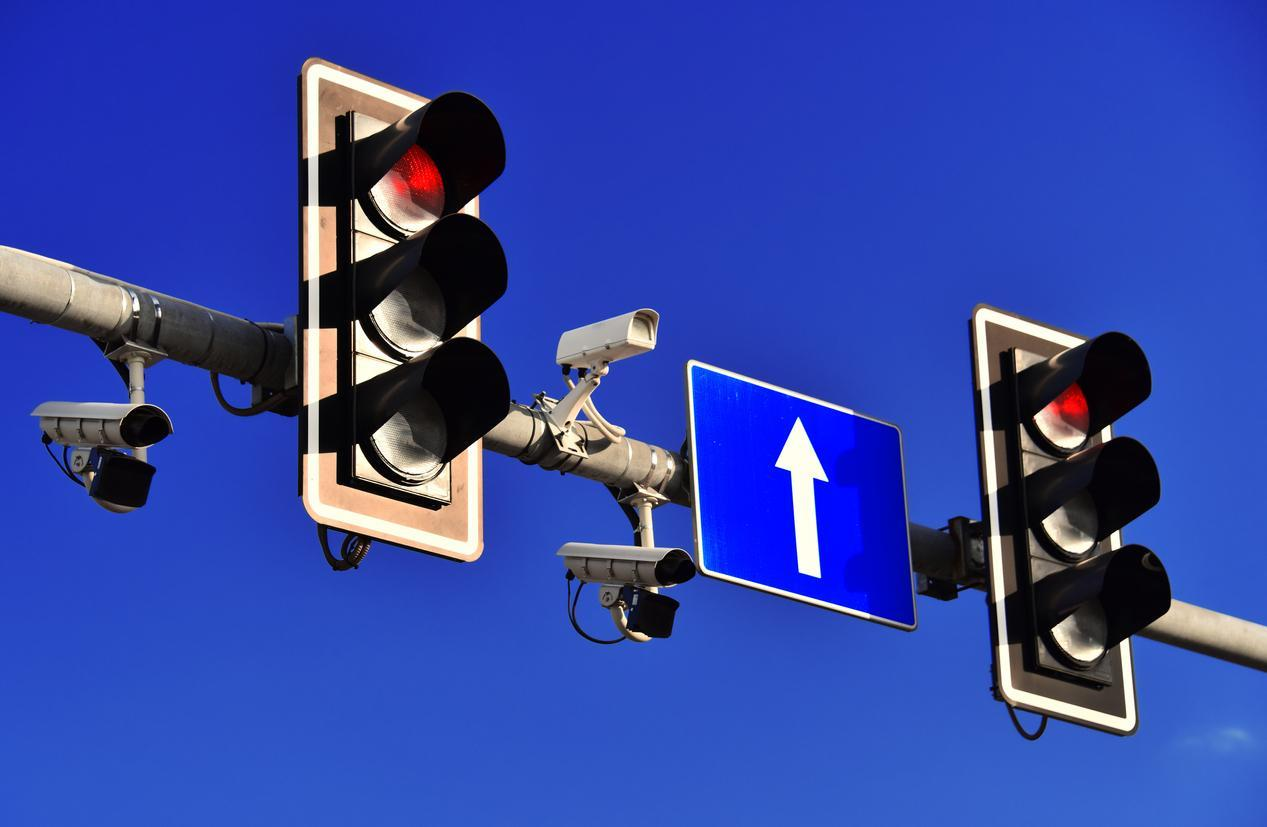Monitor: (24, 348, 219, 534), (531, 501, 720, 669), (536, 288, 677, 409)
